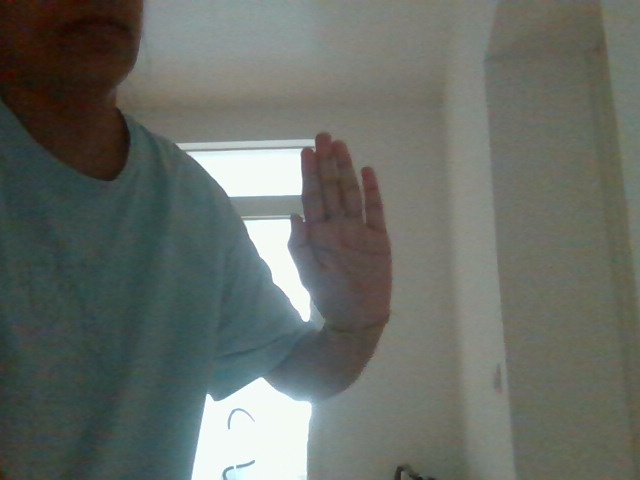open_hand: (273, 130, 409, 329)
